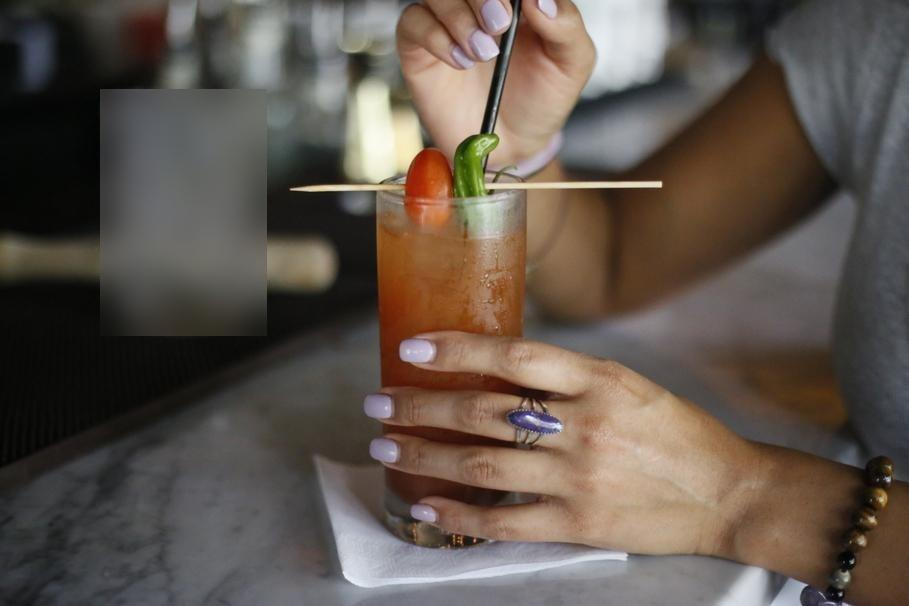glass-normal: (372, 174, 531, 544)
